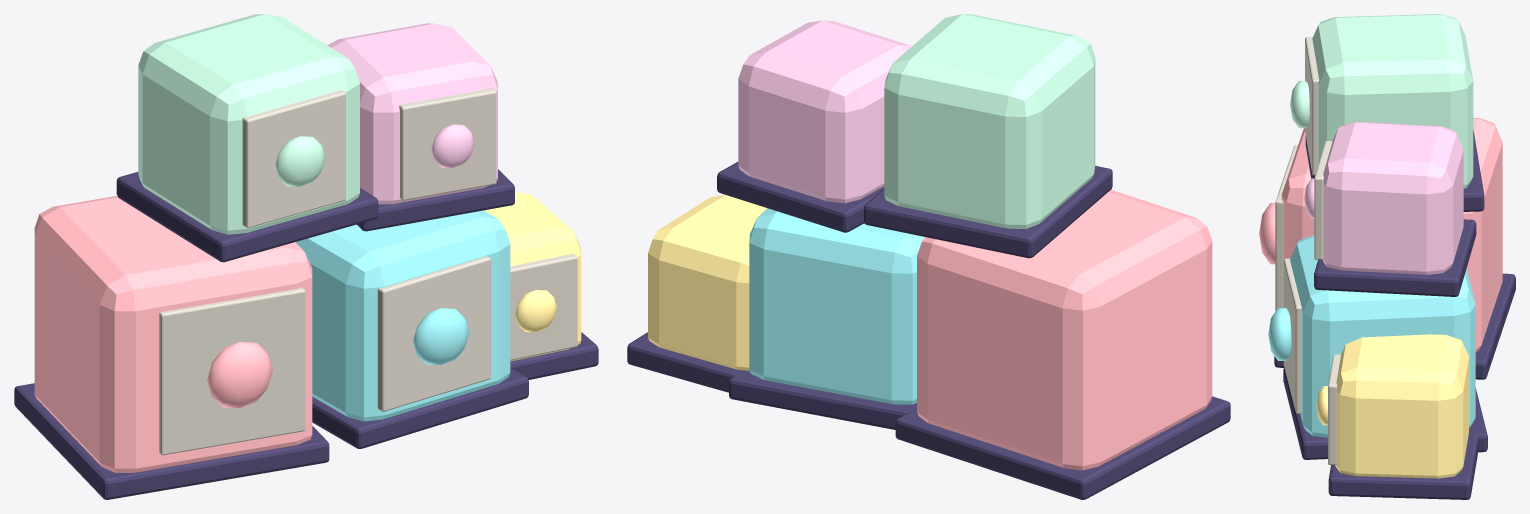
Rendered from pearl_toy_block_stack.glb.
3 views of the same model, side by side, from view 1: azimuth 30°, elevation 25°; view 2: azimuth 150°, elevation 25°; view 3: azimuth 270°, elevation 25° (orthographic). The views are drawn at different scales.
Parts seen in each view (by area): view 1: pearl_toy_block_stack.001; view 2: pearl_toy_block_stack.001; view 3: pearl_toy_block_stack.001.
Part boxes in pixels (x1=…): pearl_toy_block_stack.001: x1=14, y1=14, x2=598, y2=499; pearl_toy_block_stack.001: x1=627, y1=14, x2=1230, y2=499; pearl_toy_block_stack.001: x1=1259, y1=14, x2=1515, y2=499.
Size of the model in its own units: 5.62 by 3.81 by 2.74.
